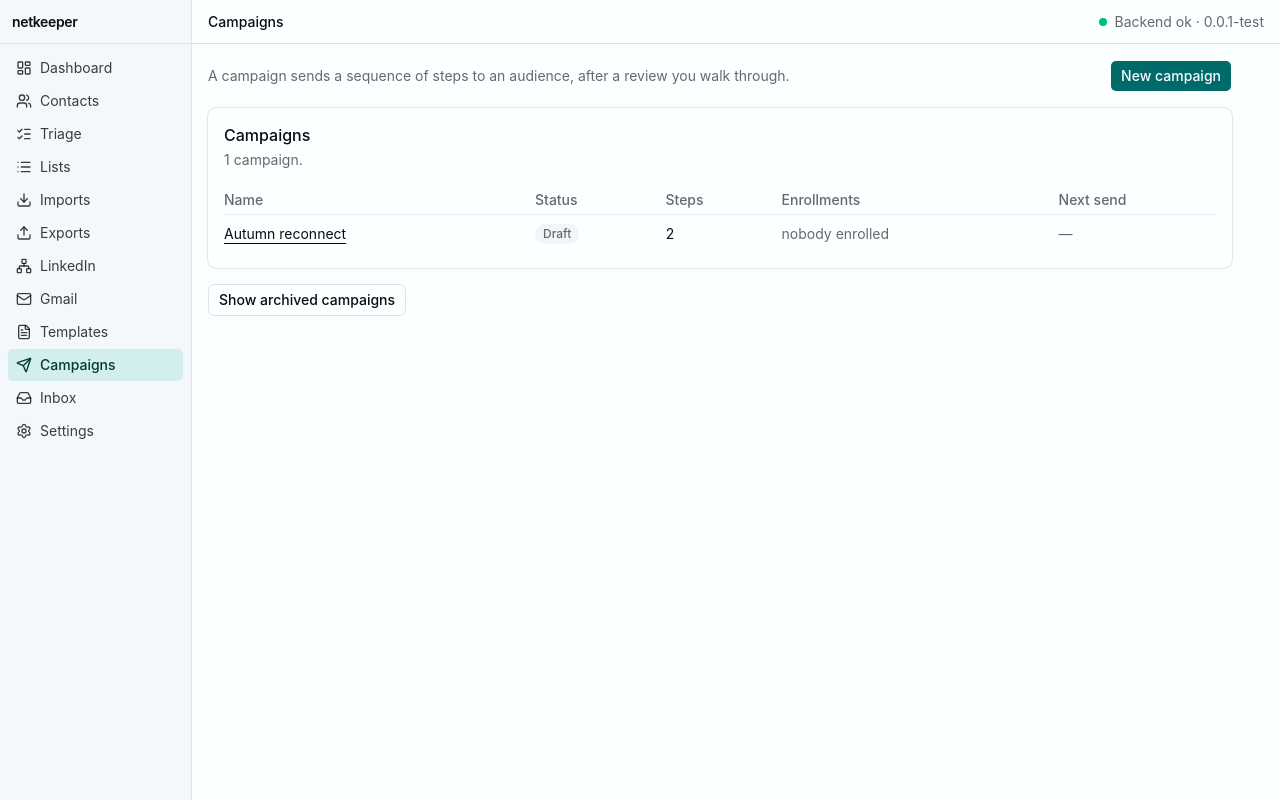
Test: archived campaigns on the list › stay hidden until asked for
Expected: the navigation bar named "Primary" is shown, [0,44,191,455]
Expected: the link "Autumn reconnect" is shown, [224,224,346,242]
Click the button "Show archived campaigns": (307, 300) [208,284,406,316]
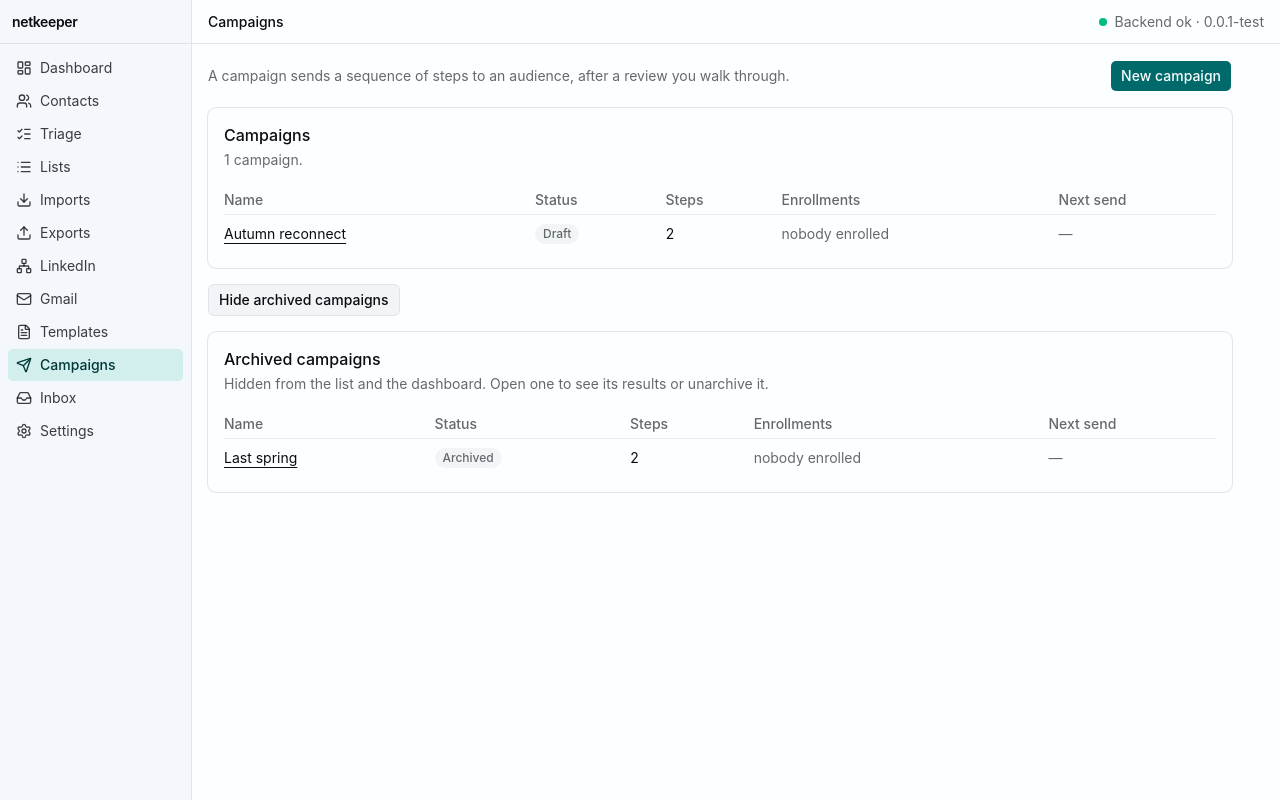
Now the text "Archived" is shown, box [434,448,502,468]
Click the button "Hide archived campaigns": (304, 300) [208,284,400,316]
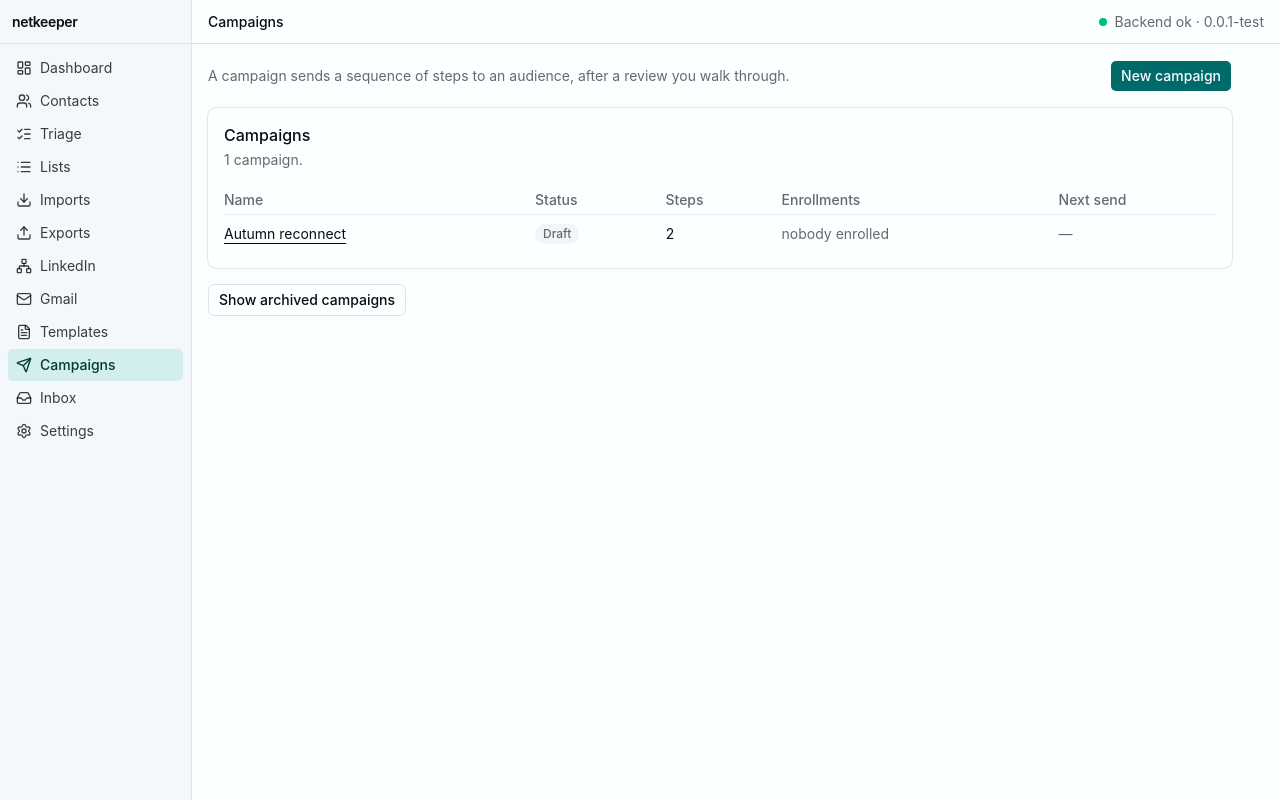
Now the link "Last spring" is gone
